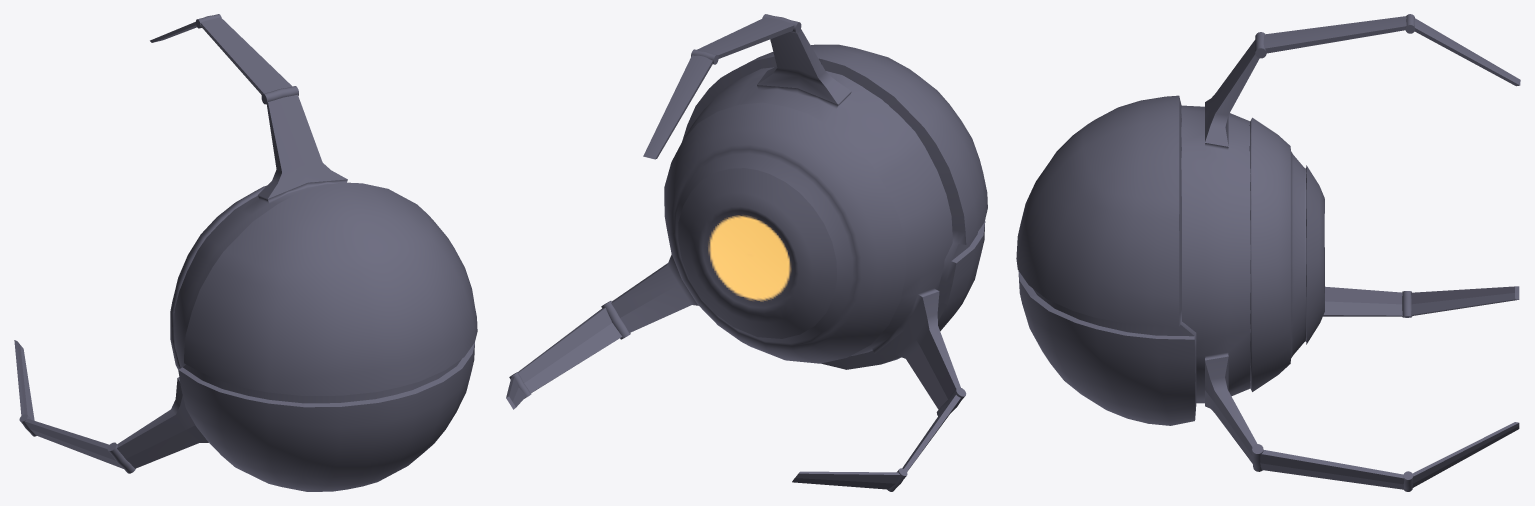
The model's file is robo_probe.glb.
3 renders of one model, left to right at view 1: azimuth 30°, elevation 25°; view 2: azimuth 150°, elevation 25°; view 3: azimuth 270°, elevation 25°, orthographic. The views are drawn at different scales.
Parts seen in each view (by area): view 1: Main, Rotator; view 2: Main, Rotator; view 3: Main, Rotator.
Boxes of the visible parts, bbox=[...] form: Main: bbox=[170, 182, 477, 491]; Rotator: bbox=[14, 14, 347, 473]; Main: bbox=[664, 44, 987, 369]; Rotator: bbox=[506, 14, 966, 491]; Main: bbox=[1016, 95, 1324, 425]; Rotator: bbox=[1181, 14, 1520, 491].
Size of the model in its own units: 1.53 by 1.47 by 1.71.
